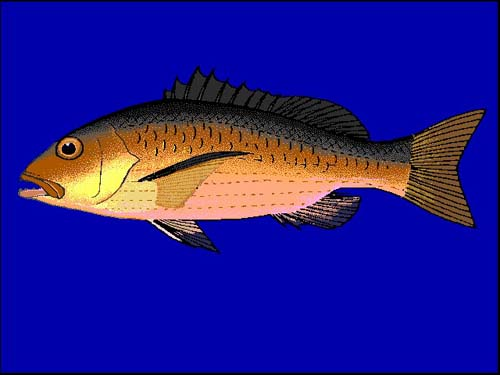fish: (16, 66, 487, 255)
